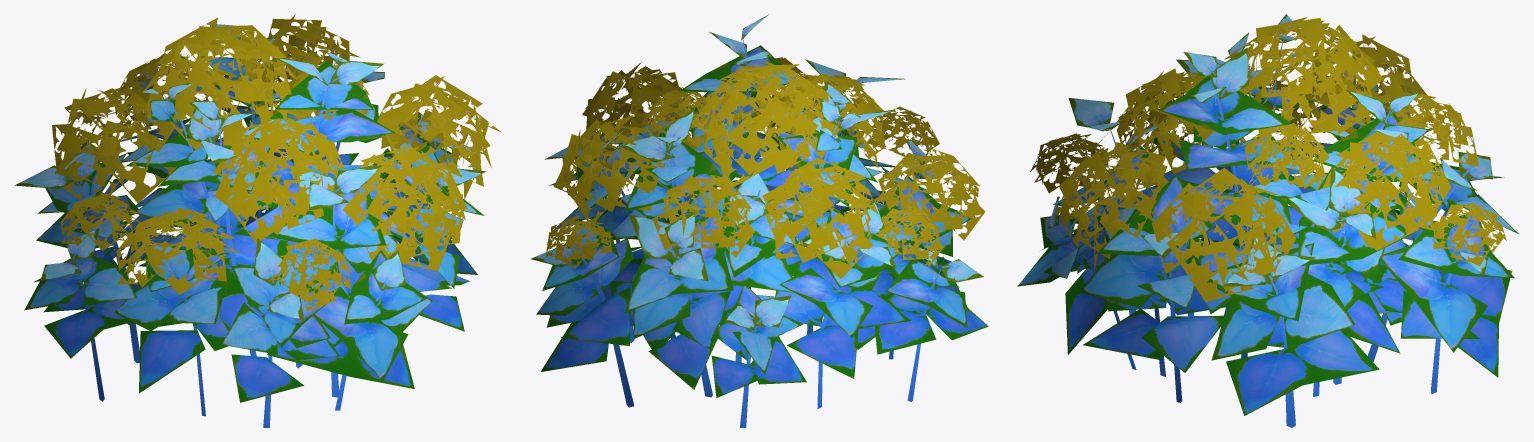
File: Homeworld_Exterior_Dq_Plant_Grass_07_Lod0.fbx
The picture shows the model from 3 angles, left to right: view 1: azimuth 30°, elevation 25°; view 2: azimuth 150°, elevation 25°; view 3: azimuth 270°, elevation 25°; orthographic projection. The views are drawn at different scales.
Visible parts, largest first — view 1: Homeworld_Exterior_Dq_Plant_Grass_07_Lod0; view 2: Homeworld_Exterior_Dq_Plant_Grass_07_Lod0; view 3: Homeworld_Exterior_Dq_Plant_Grass_07_Lod0.
Part boxes in pixels (x1,y1,x2,y2): Homeworld_Exterior_Dq_Plant_Grass_07_Lod0: (14, 14, 501, 427); Homeworld_Exterior_Dq_Plant_Grass_07_Lod0: (531, 14, 988, 427); Homeworld_Exterior_Dq_Plant_Grass_07_Lod0: (1017, 14, 1519, 427).
Size of the model in its own units: 1.29 by 0.9307 by 1.28.
Materials: 1 (1 with a texture image).
